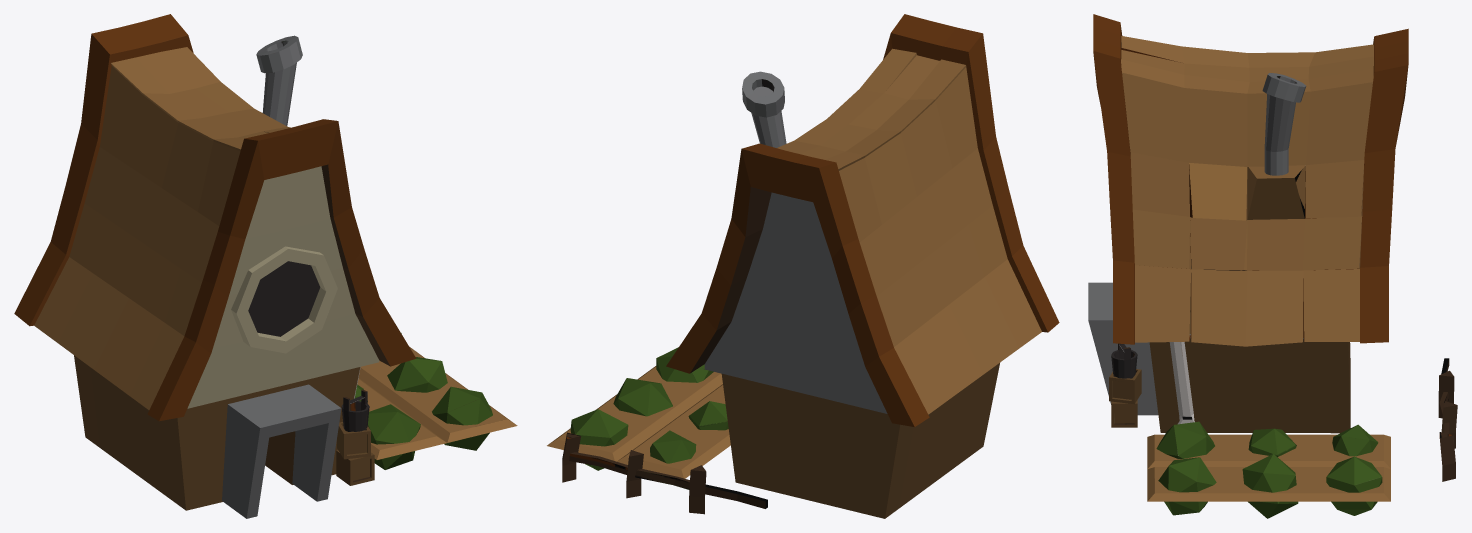
The picture shows the model from 3 angles, left to right: view 1: azimuth 30°, elevation 25°; view 2: azimuth 150°, elevation 25°; view 3: azimuth 270°, elevation 25°; orthographic projection. The views are drawn at different scales.
Visible parts, largest first — view 1: 柱体.007; view 2: 柱体.007; view 3: 柱体.007.
Part boxes in pixels (box(x1,y1,x2,y2)): 柱体.007: box(14, 14, 517, 518); 柱体.007: box(547, 14, 1059, 518); 柱体.007: box(1088, 14, 1457, 518).
Size of the model in its own units: 212 by 219 by 191.
